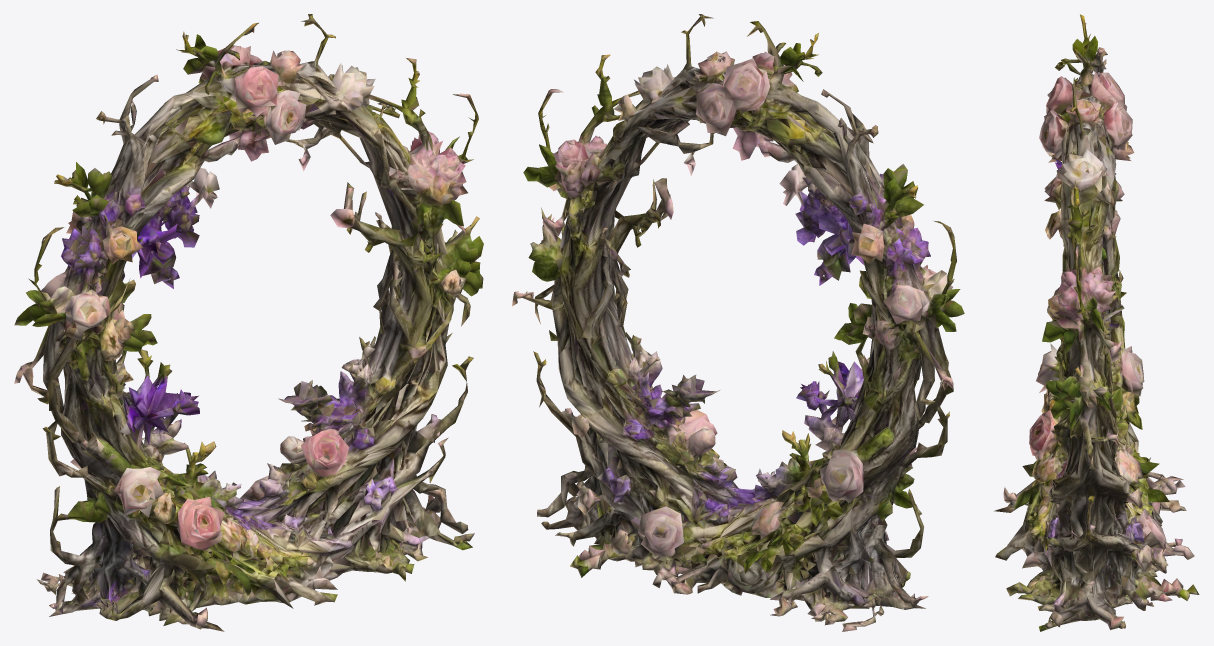
File: Floral_Wreath_of_Spri.glb
3 views of the same model, side by side, from view 1: azimuth 30°, elevation 25°; view 2: azimuth 150°, elevation 25°; view 3: azimuth 270°, elevation 25° (orthographic). The views are drawn at different scales.
Visible parts, largest first — view 1: Floral_Wreath_of_Spri; view 2: Floral_Wreath_of_Spri; view 3: Floral_Wreath_of_Spri.
Part boxes in pixels (<box>): Floral_Wreath_of_Spri: <box>14,14,483,631</box>; Floral_Wreath_of_Spri: <box>512,14,964,631</box>; Floral_Wreath_of_Spri: <box>994,14,1199,631</box>.
Bounding box in the file's own units: 1.59 × 1.89 × 0.704.
Materials: 1 (1 with a texture image).
